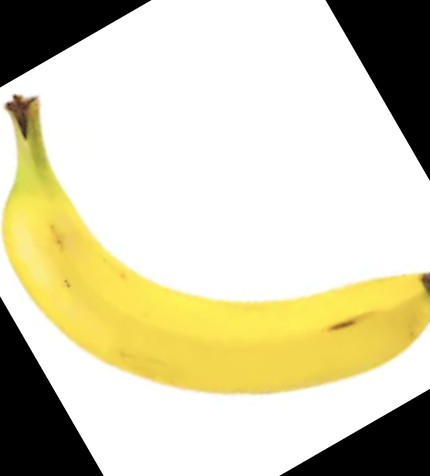fresh_banana: (4, 93, 430, 395)
